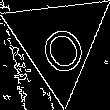O_NW: (28, 7, 88, 74)
